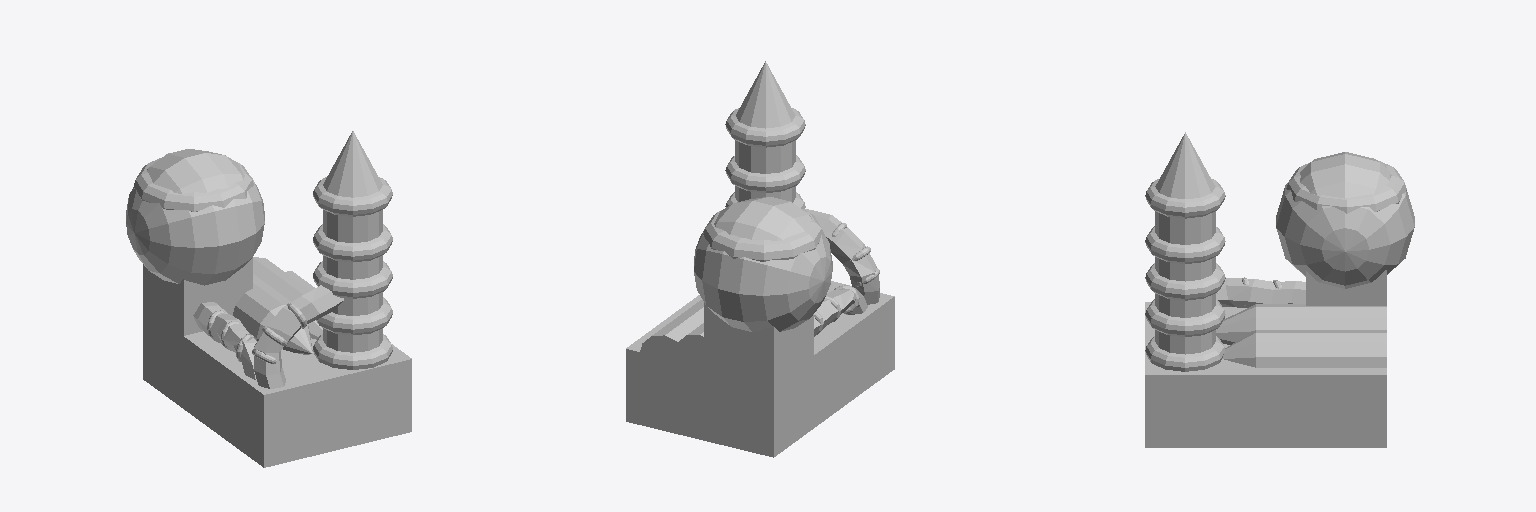
The model's file is TestBuilding.obj.
The picture shows the model from 3 angles: view 1: azimuth 30°, elevation 25°; view 2: azimuth 150°, elevation 25°; view 3: azimuth 270°, elevation 25°; orthographic projection.
Size of the model in its own units: 1.41 by 2.24 by 1.85.